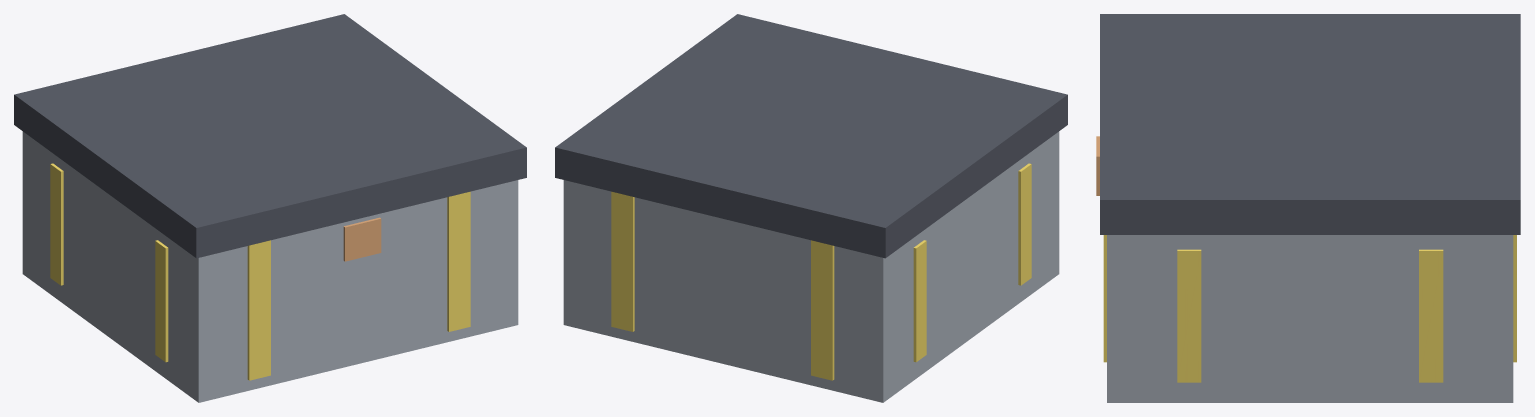
File: bau_grande_sem_textura.glb
The picture shows the model from 3 angles, left to right: view 1: azimuth 30°, elevation 25°; view 2: azimuth 150°, elevation 25°; view 3: azimuth 270°, elevation 25°; orthographic projection. The views are drawn at different scales.
Parts seen in each view (by area): view 1: bau_grande; view 2: bau_grande; view 3: bau_grande.
Part boxes in pixels (x1,y1,x2,y2): bau_grande: [14, 14, 526, 402]; bau_grande: [555, 14, 1067, 402]; bau_grande: [1096, 14, 1520, 402].
Size of the model in its own units: 1.82 by 0.94 by 1.75.
